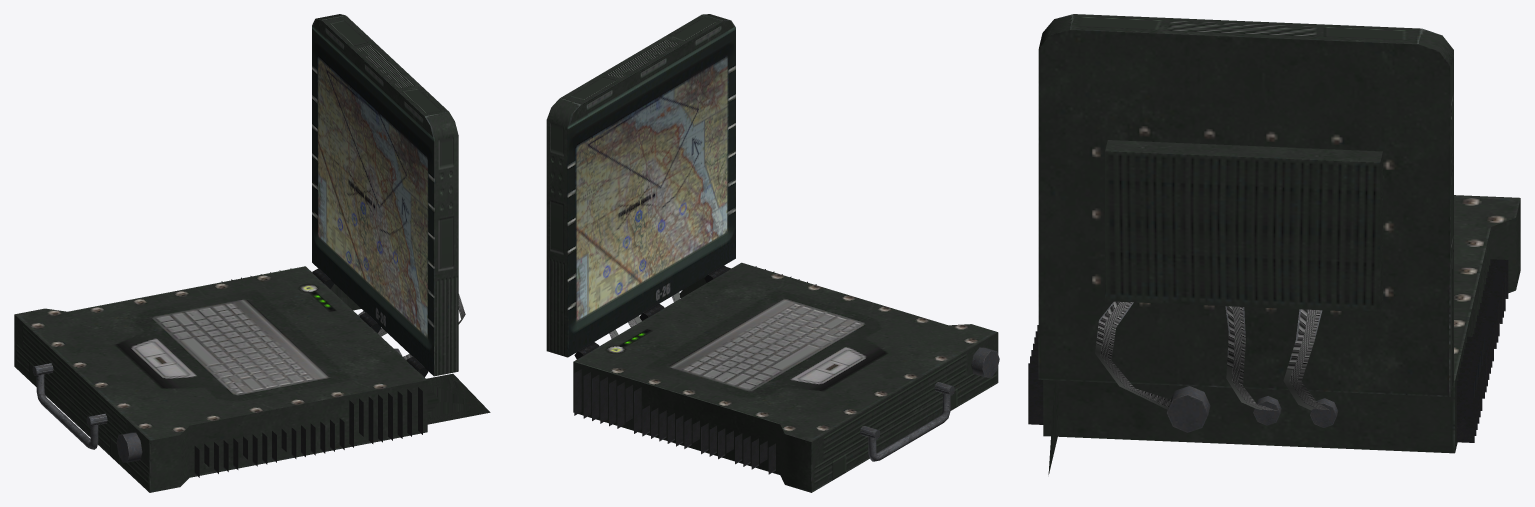
The model's file is rfs_radio_lock.fbx.
3 renders of one model, left to right at view 1: azimuth 30°, elevation 25°; view 2: azimuth 150°, elevation 25°; view 3: azimuth 270°, elevation 25°, orthographic. The views are drawn at different scales.
Parts seen in each view (by area): view 1: rfs_radio_lock; view 2: rfs_radio_lock; view 3: rfs_radio_lock.
Part boxes in pixels (<box>): rfs_radio_lock: <box>14,14,490,492</box>; rfs_radio_lock: <box>546,14,999,492</box>; rfs_radio_lock: <box>1028,14,1520,474</box>.
Bounding box in the file's own units: 1.27 × 1 × 1.04.
